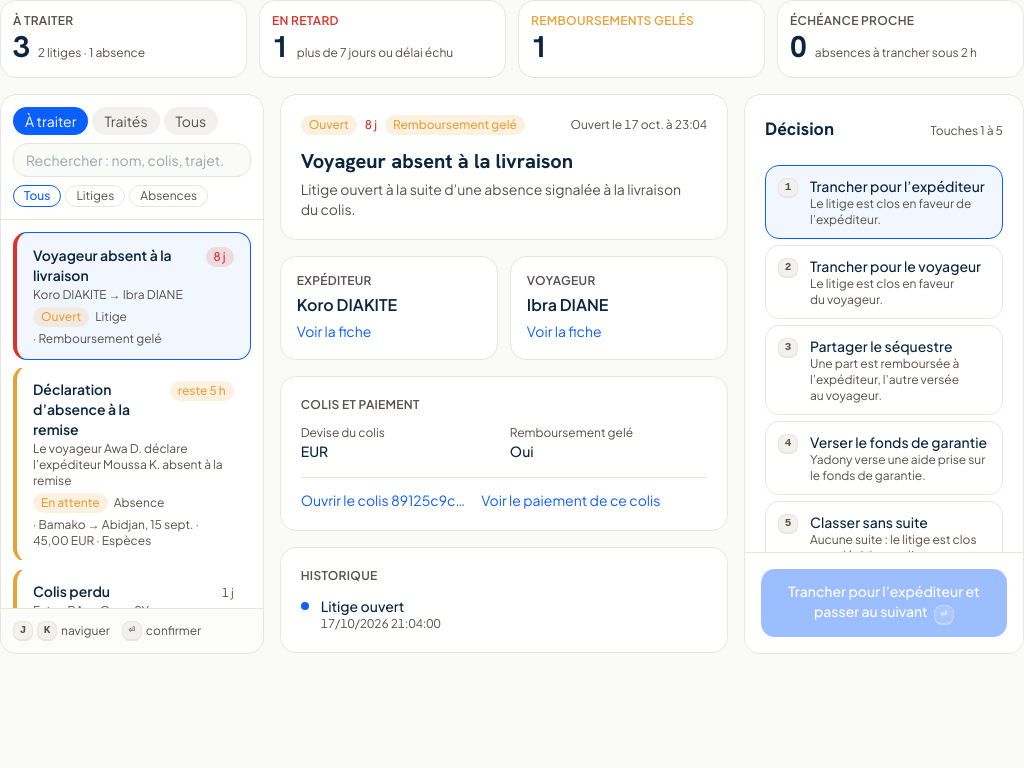
Scenario: pages/incidents › décisions sur une absence › déjà tranchée ailleurs : le message du conflit
Step 1. Click the button with test id "incident-open-noshow:n1" → [132, 464], box [13, 366, 251, 562]
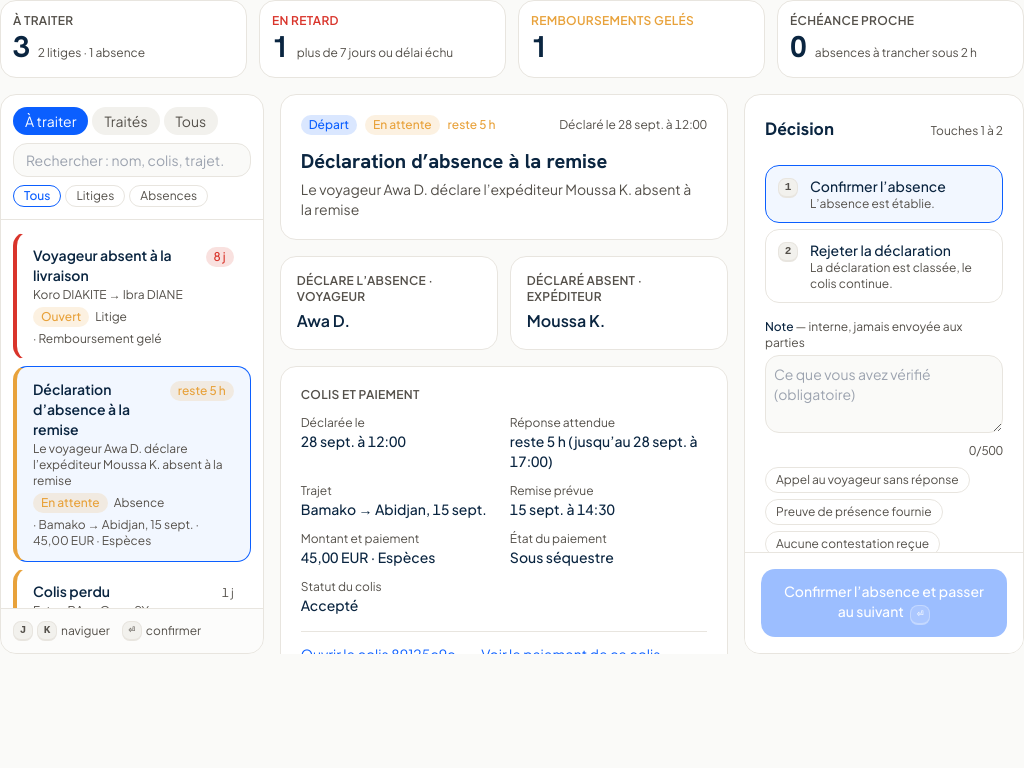
Step 2. Type "Appel au voyageur sans réponse" into the text box with test id "incident-note" → [884, 394], box [765, 355, 1003, 433]
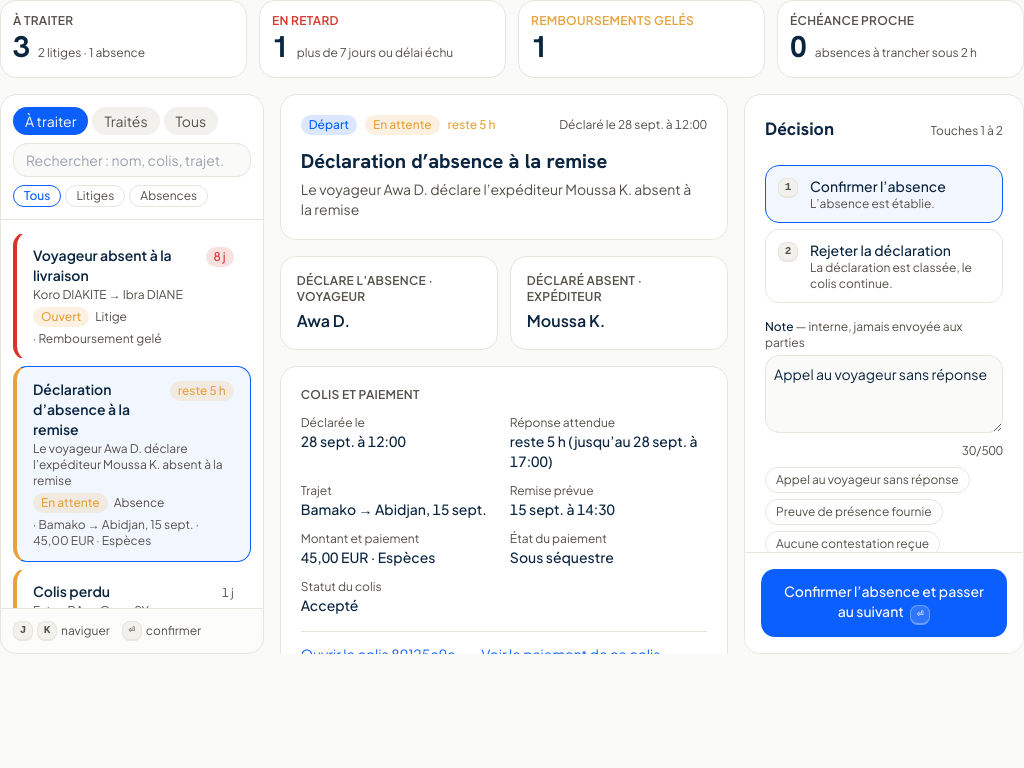
Step 3. Click the button with test id "incident-confirm" → [884, 603], box [761, 569, 1007, 637]
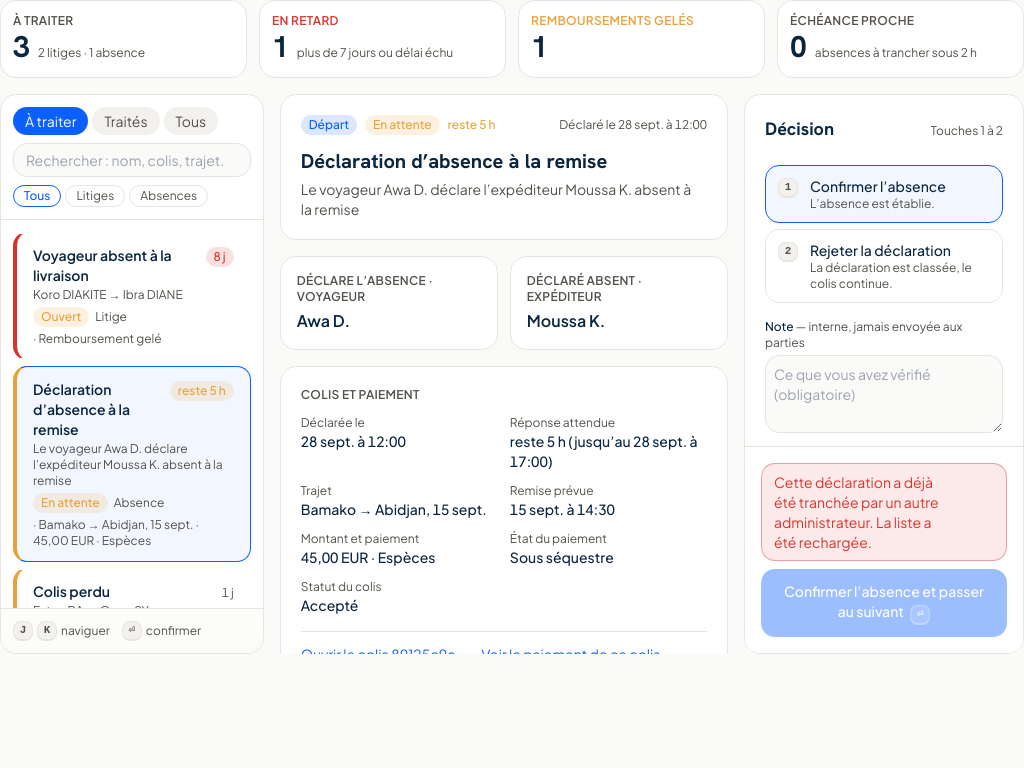
Result: the message with test id "incident-error" shows "déjà été tranchée" at [774, 473, 939, 551]
